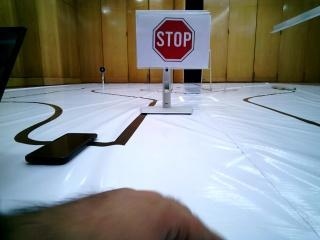stop: (142, 14, 207, 64)
